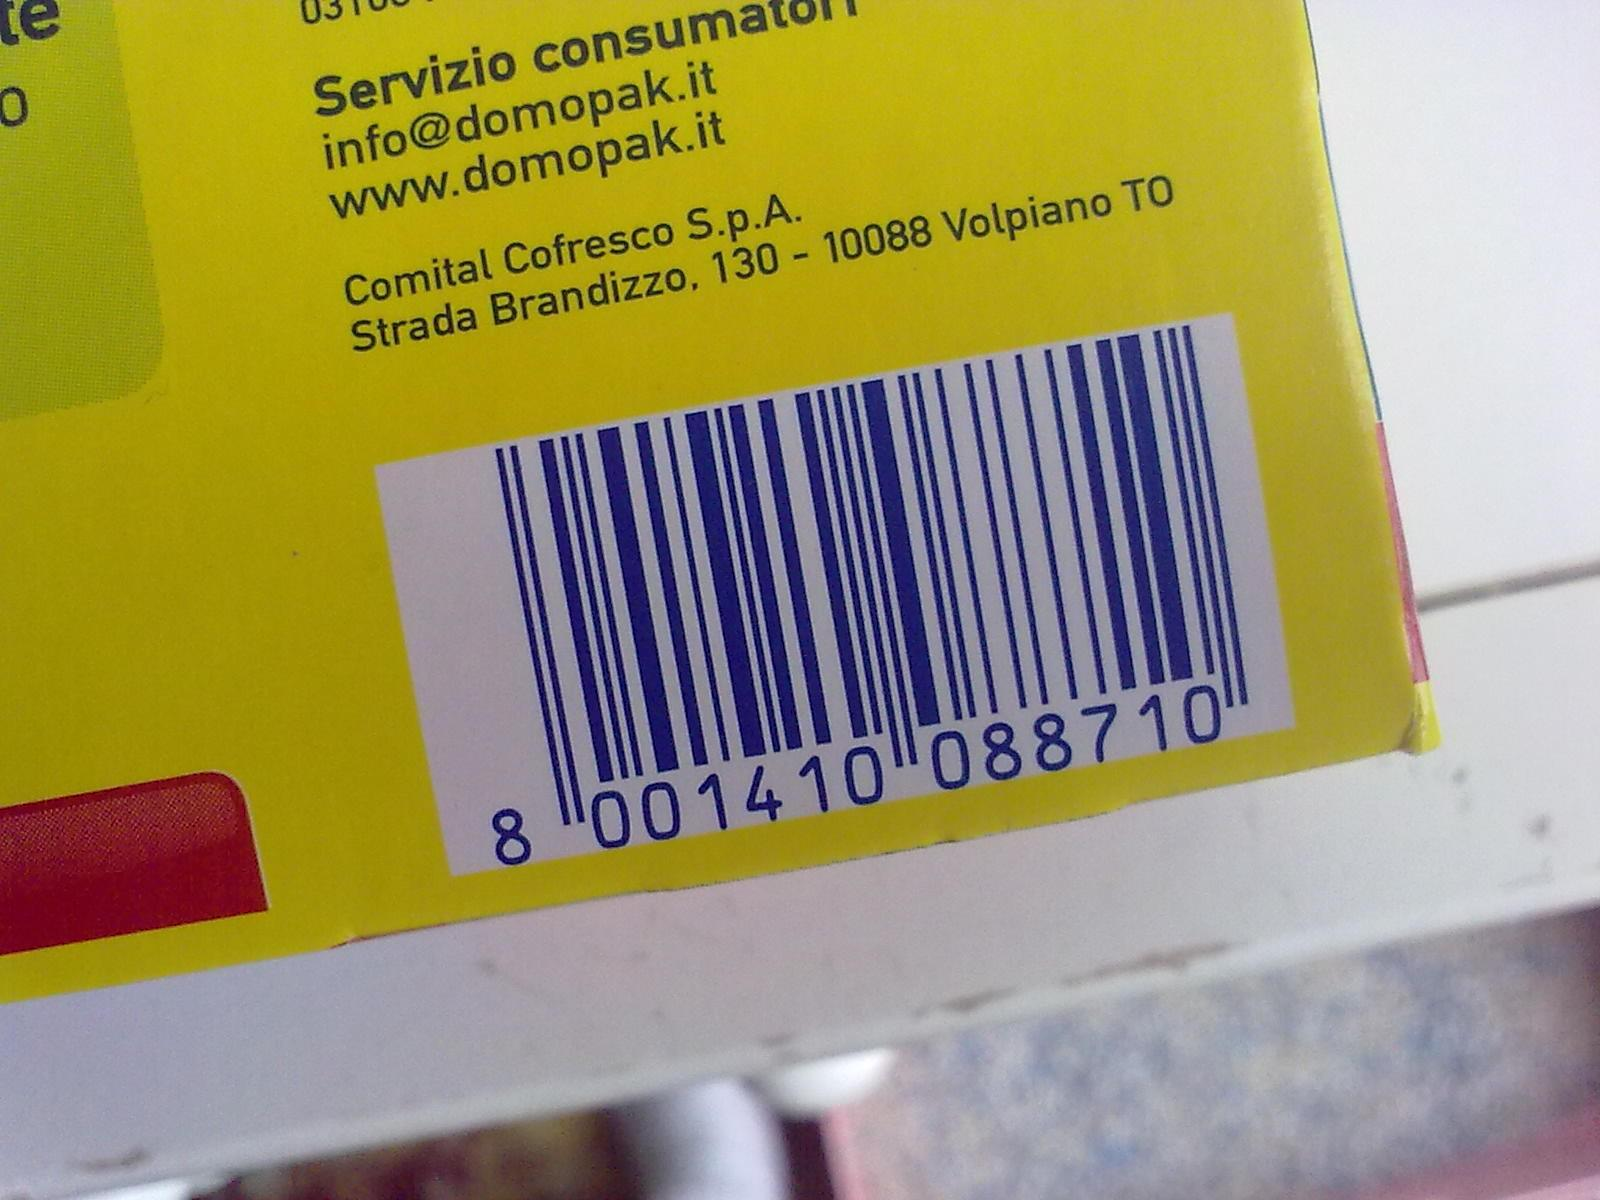Barcode: (457, 304, 1265, 880)
